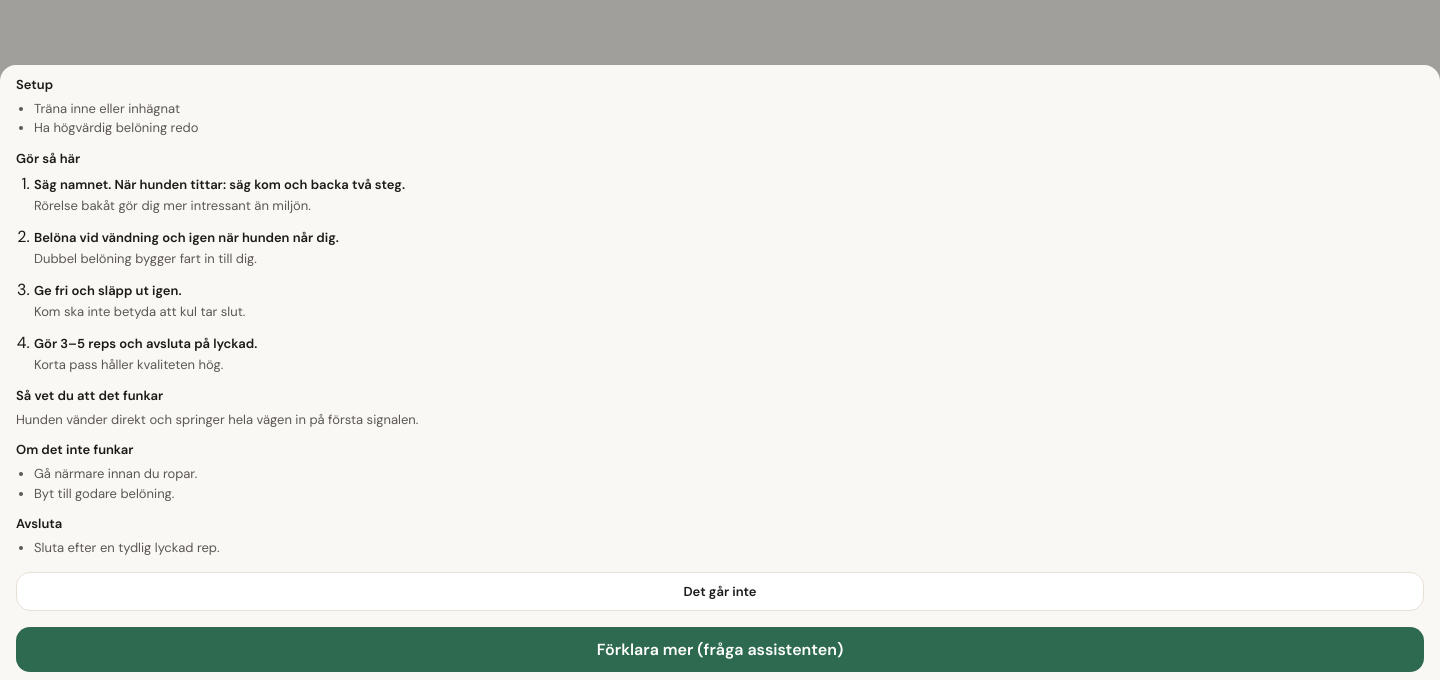
Test: ExerciseGuideSheet › renders how+why steps and hides variants until Det går inte
(page scrolled)
Expected: the text "Rörelse bakåt gör dig mer intressant än miljön." is shown, [34,197,311,214]
Expected: the text "Leksaksjakt" is not shown
Click the button "Det går inte" at {"x": 720, "y": 591}, box [16,572,1424,610]
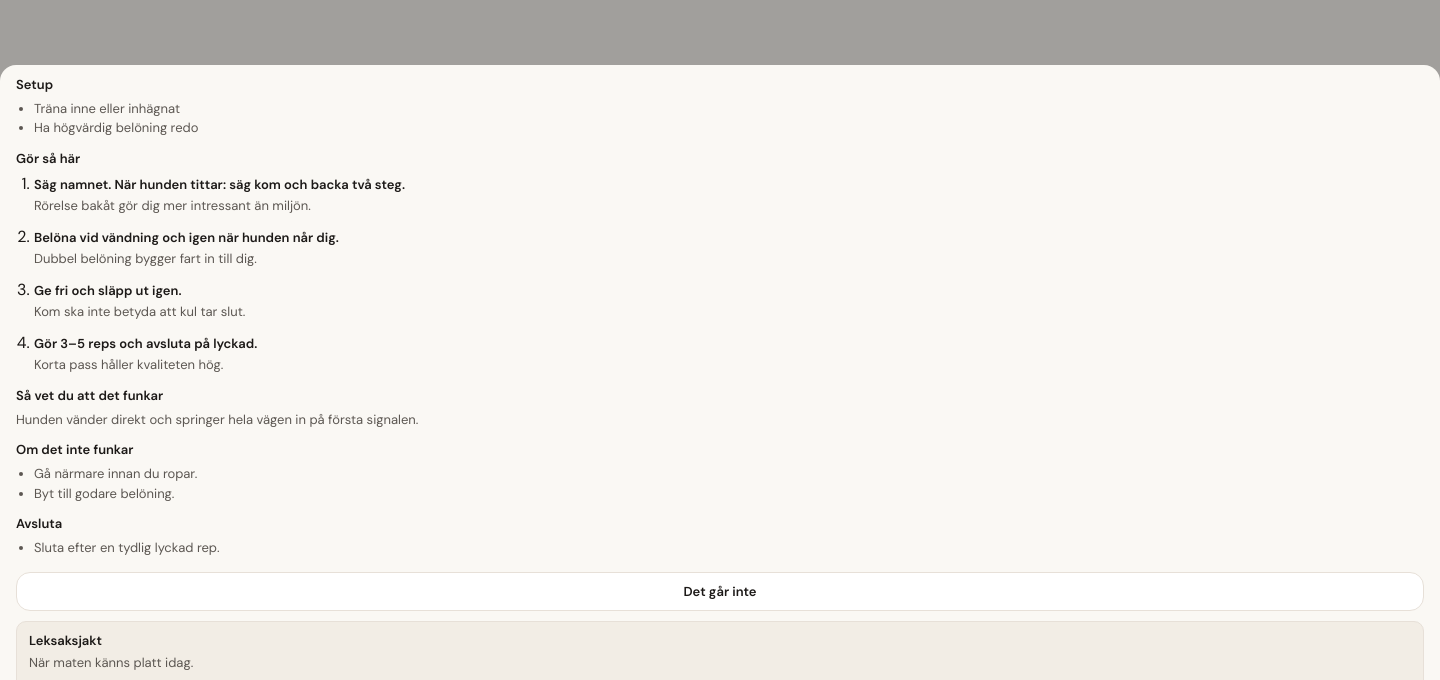
Expected: the text "Leksaksjakt" is shown, [29,632,102,648]
